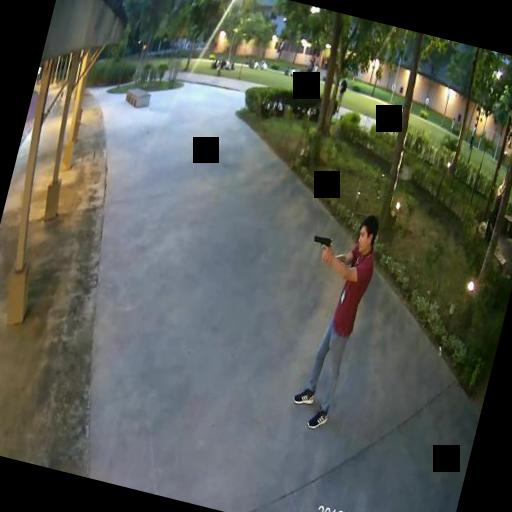Handgun: (309, 232, 332, 260)
